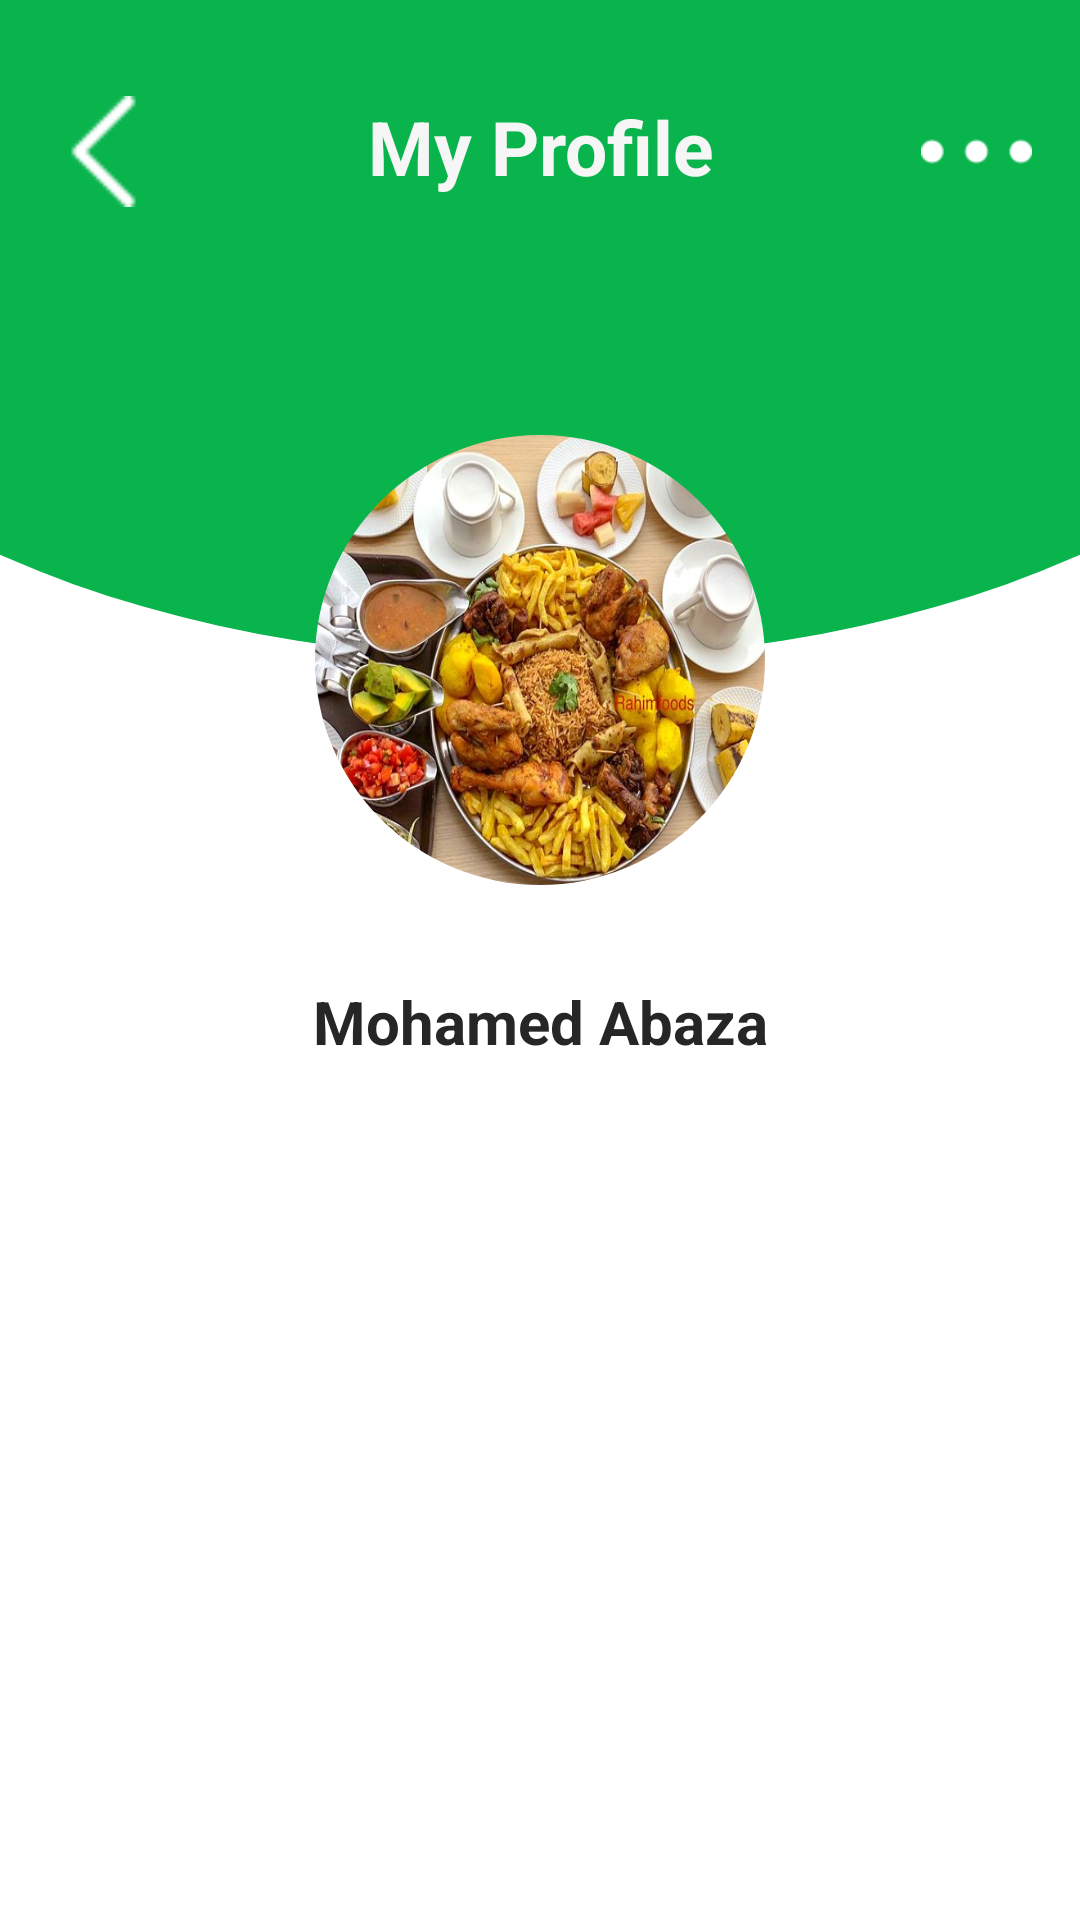

Icon bounding boxes for this 1080w x 1920h phone screenshot, format (left=x1, top=y1, right=x2, bottom=y2):
back: (left=71, top=96, right=136, bottom=207)
three dots: (left=921, top=139, right=1032, bottom=164)
